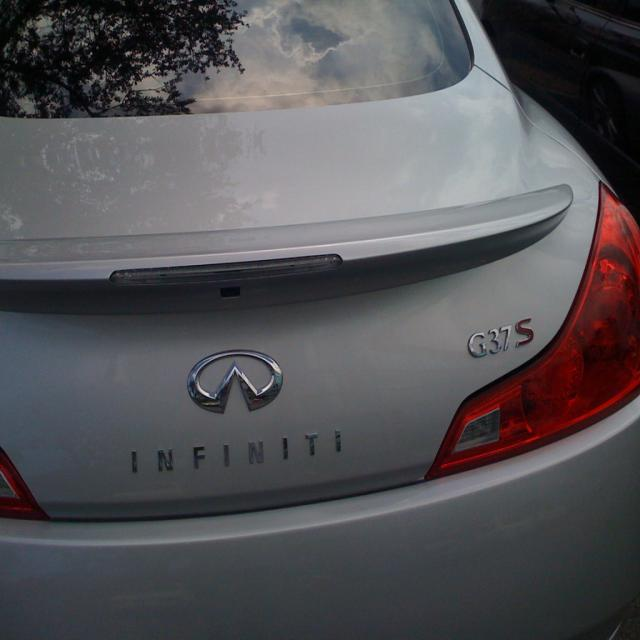car: (22, 68, 639, 616)
